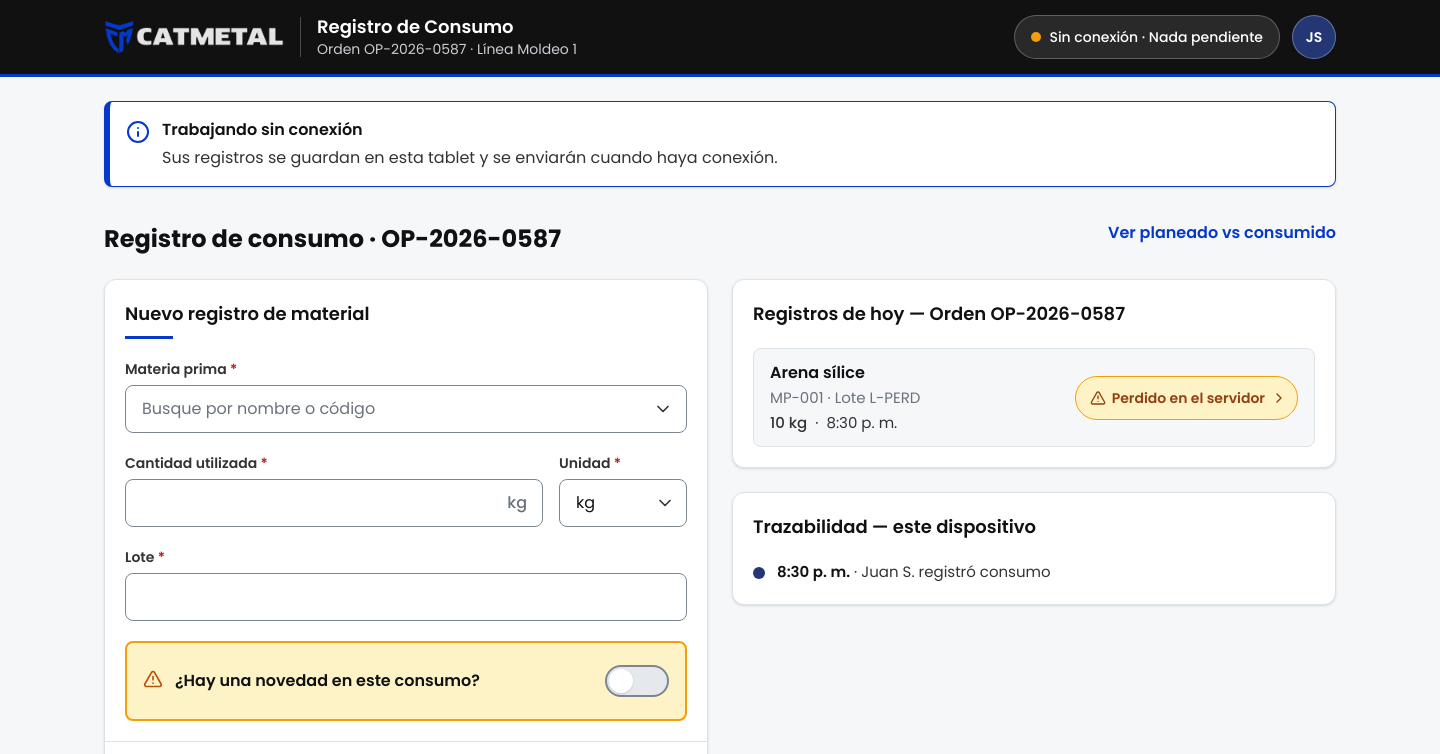
Test: Registros de hoy › perdido en el servidor → chip accionable → enviar de nuevo (ADR 0016)
Expected: the heading "Registro de consumo · OP-2026-0587" is shown, [104,223,561,255]
Click the button named "Perdido en el servidor, enviarlo de nuevo de Arena sílice" at point(1186, 398), box [1075,376,1298,420]
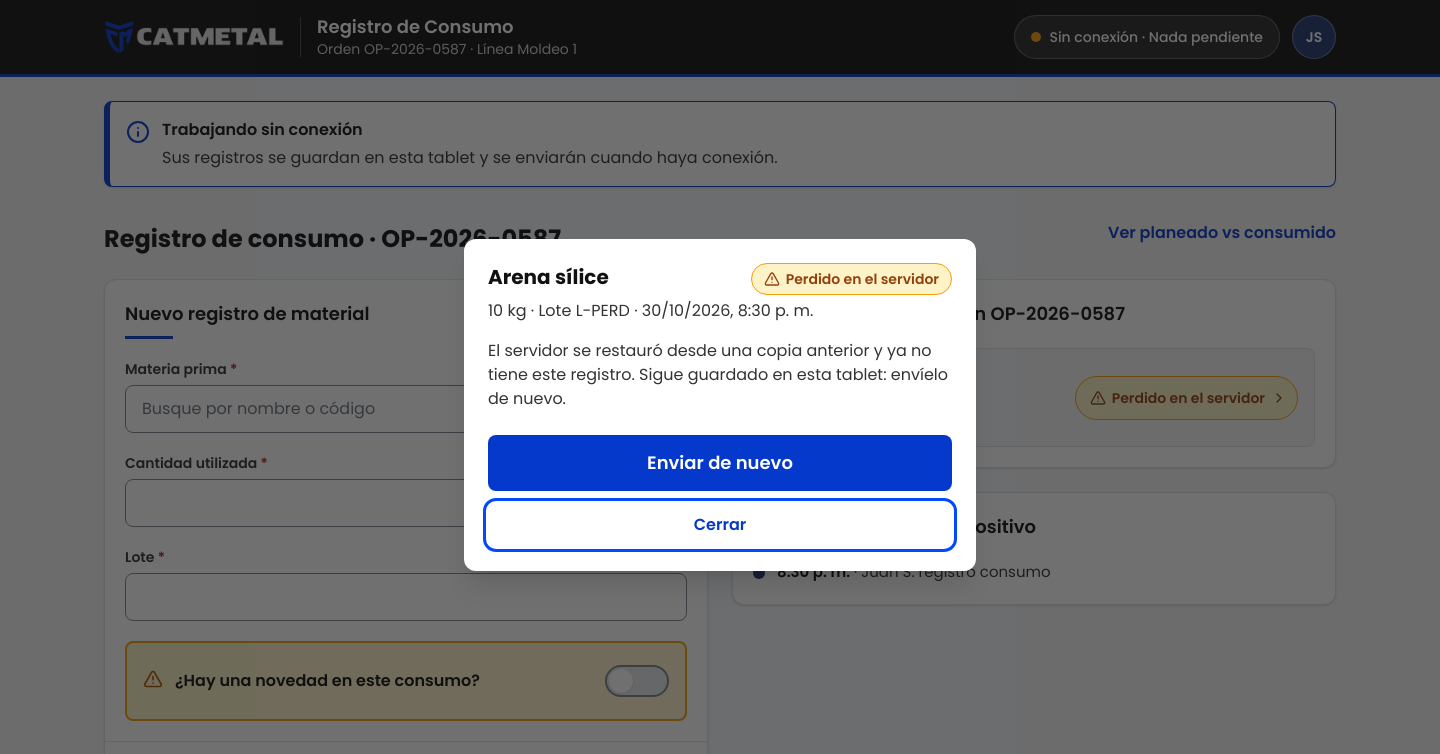
Expected: the dialog "Arena sílice" shows "ya no tiene este registro", [488,339,948,410]
Click the button "Enviar de nuevo" at point(720, 463), box [488,435,952,491]
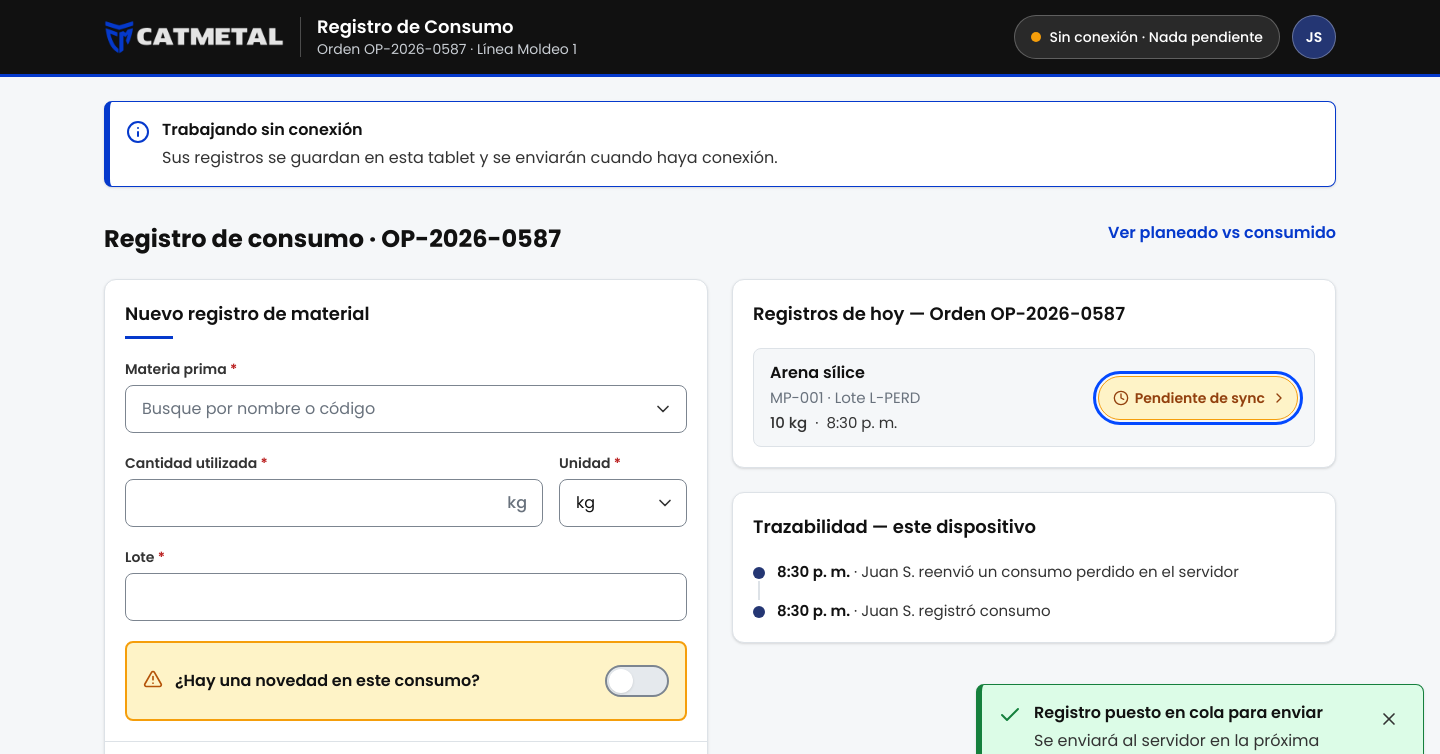
Expected: the text "Registro puesto en cola para enviar" is shown, [1034,701,1355,725]
